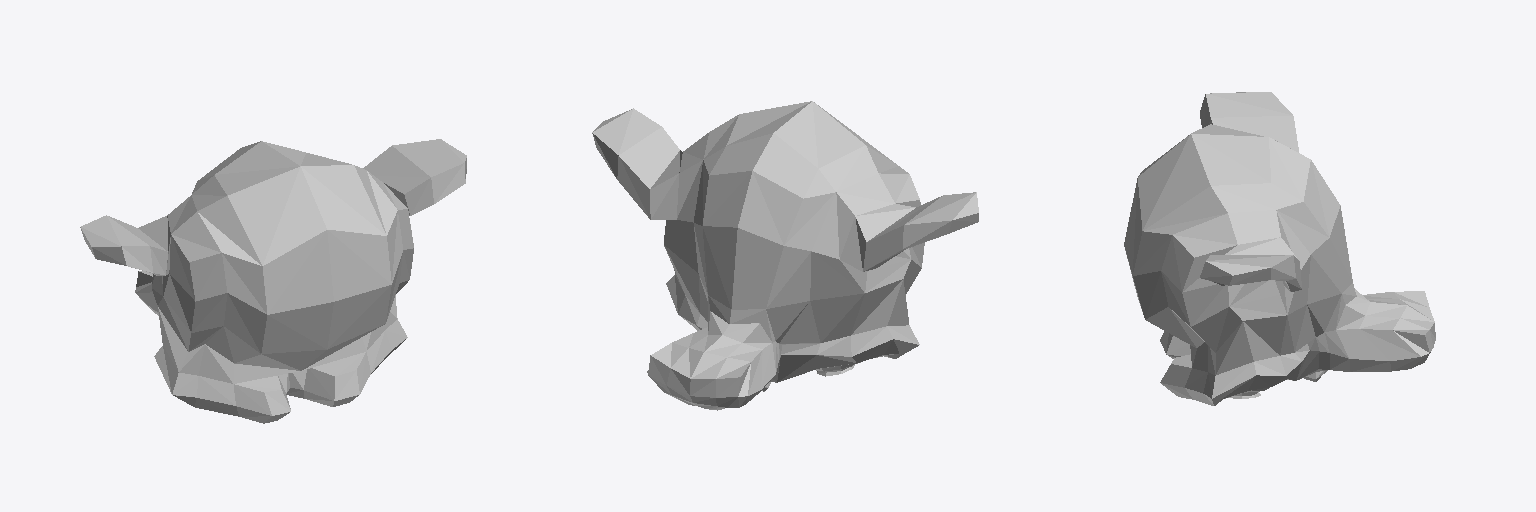
File: monkey.obj
3 views of the same model, side by side, from view 1: azimuth 30°, elevation 25°; view 2: azimuth 150°, elevation 25°; view 3: azimuth 270°, elevation 25° (orthographic).
Parts seen in each view (by area): view 1: Suzanne; view 2: Suzanne; view 3: Suzanne.
Boxes of the visible parts, x1,y1,x2,y2 form: Suzanne: [80, 139, 466, 423]; Suzanne: [592, 101, 978, 410]; Suzanne: [1124, 92, 1435, 405].
Size of the model in its own units: 1.52 by 0.9465 by 1.09.